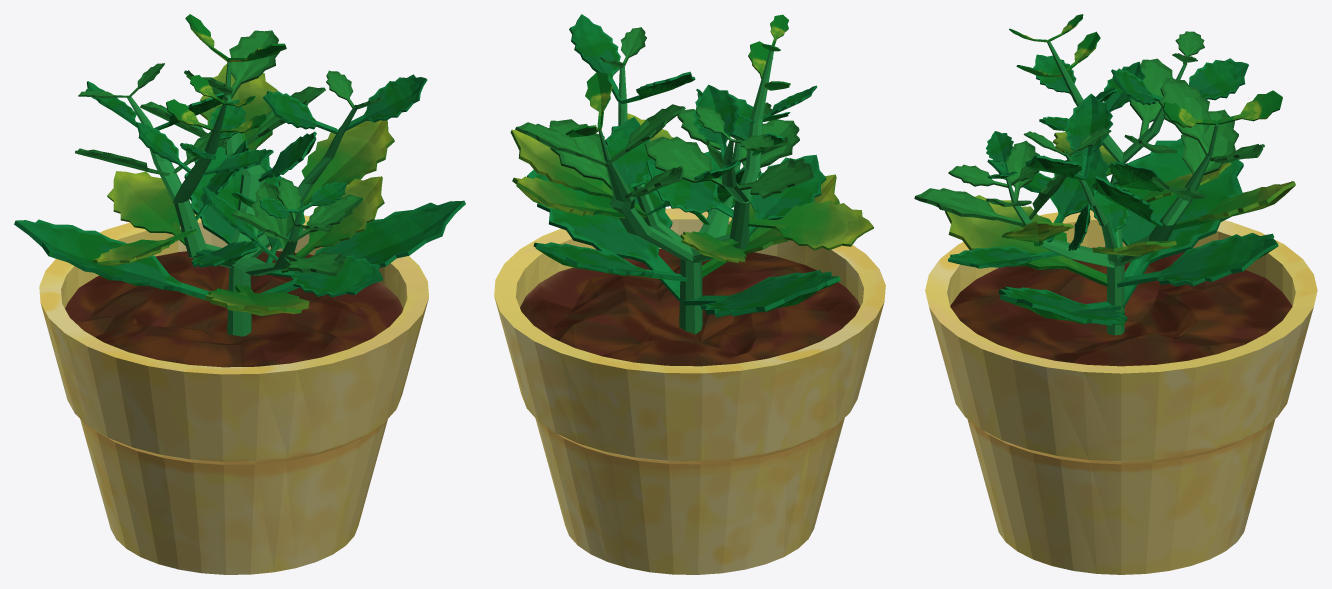
Rendered from Kalanchoe_Neutral_End.glb.
The picture shows the model from 3 angles, left to right: view 1: azimuth 30°, elevation 25°; view 2: azimuth 150°, elevation 25°; view 3: azimuth 270°, elevation 25°; orthographic projection.
Parts seen in each view (by area): view 1: Pot, Plane.026; view 2: Pot, Plane.026; view 3: Pot, Plane.026.
Part boxes in pixels (x1,y1,x2,y2): Pot: [39, 213, 428, 574]; Plane.026: [14, 14, 465, 336]; Pot: [494, 208, 885, 574]; Plane.026: [510, 14, 873, 334]; Pot: [925, 210, 1317, 574]; Plane.026: [914, 14, 1295, 335].
Bounding box in the file's own units: 2.19 × 2.75 × 2.1.
5 materials, 4 textured.
